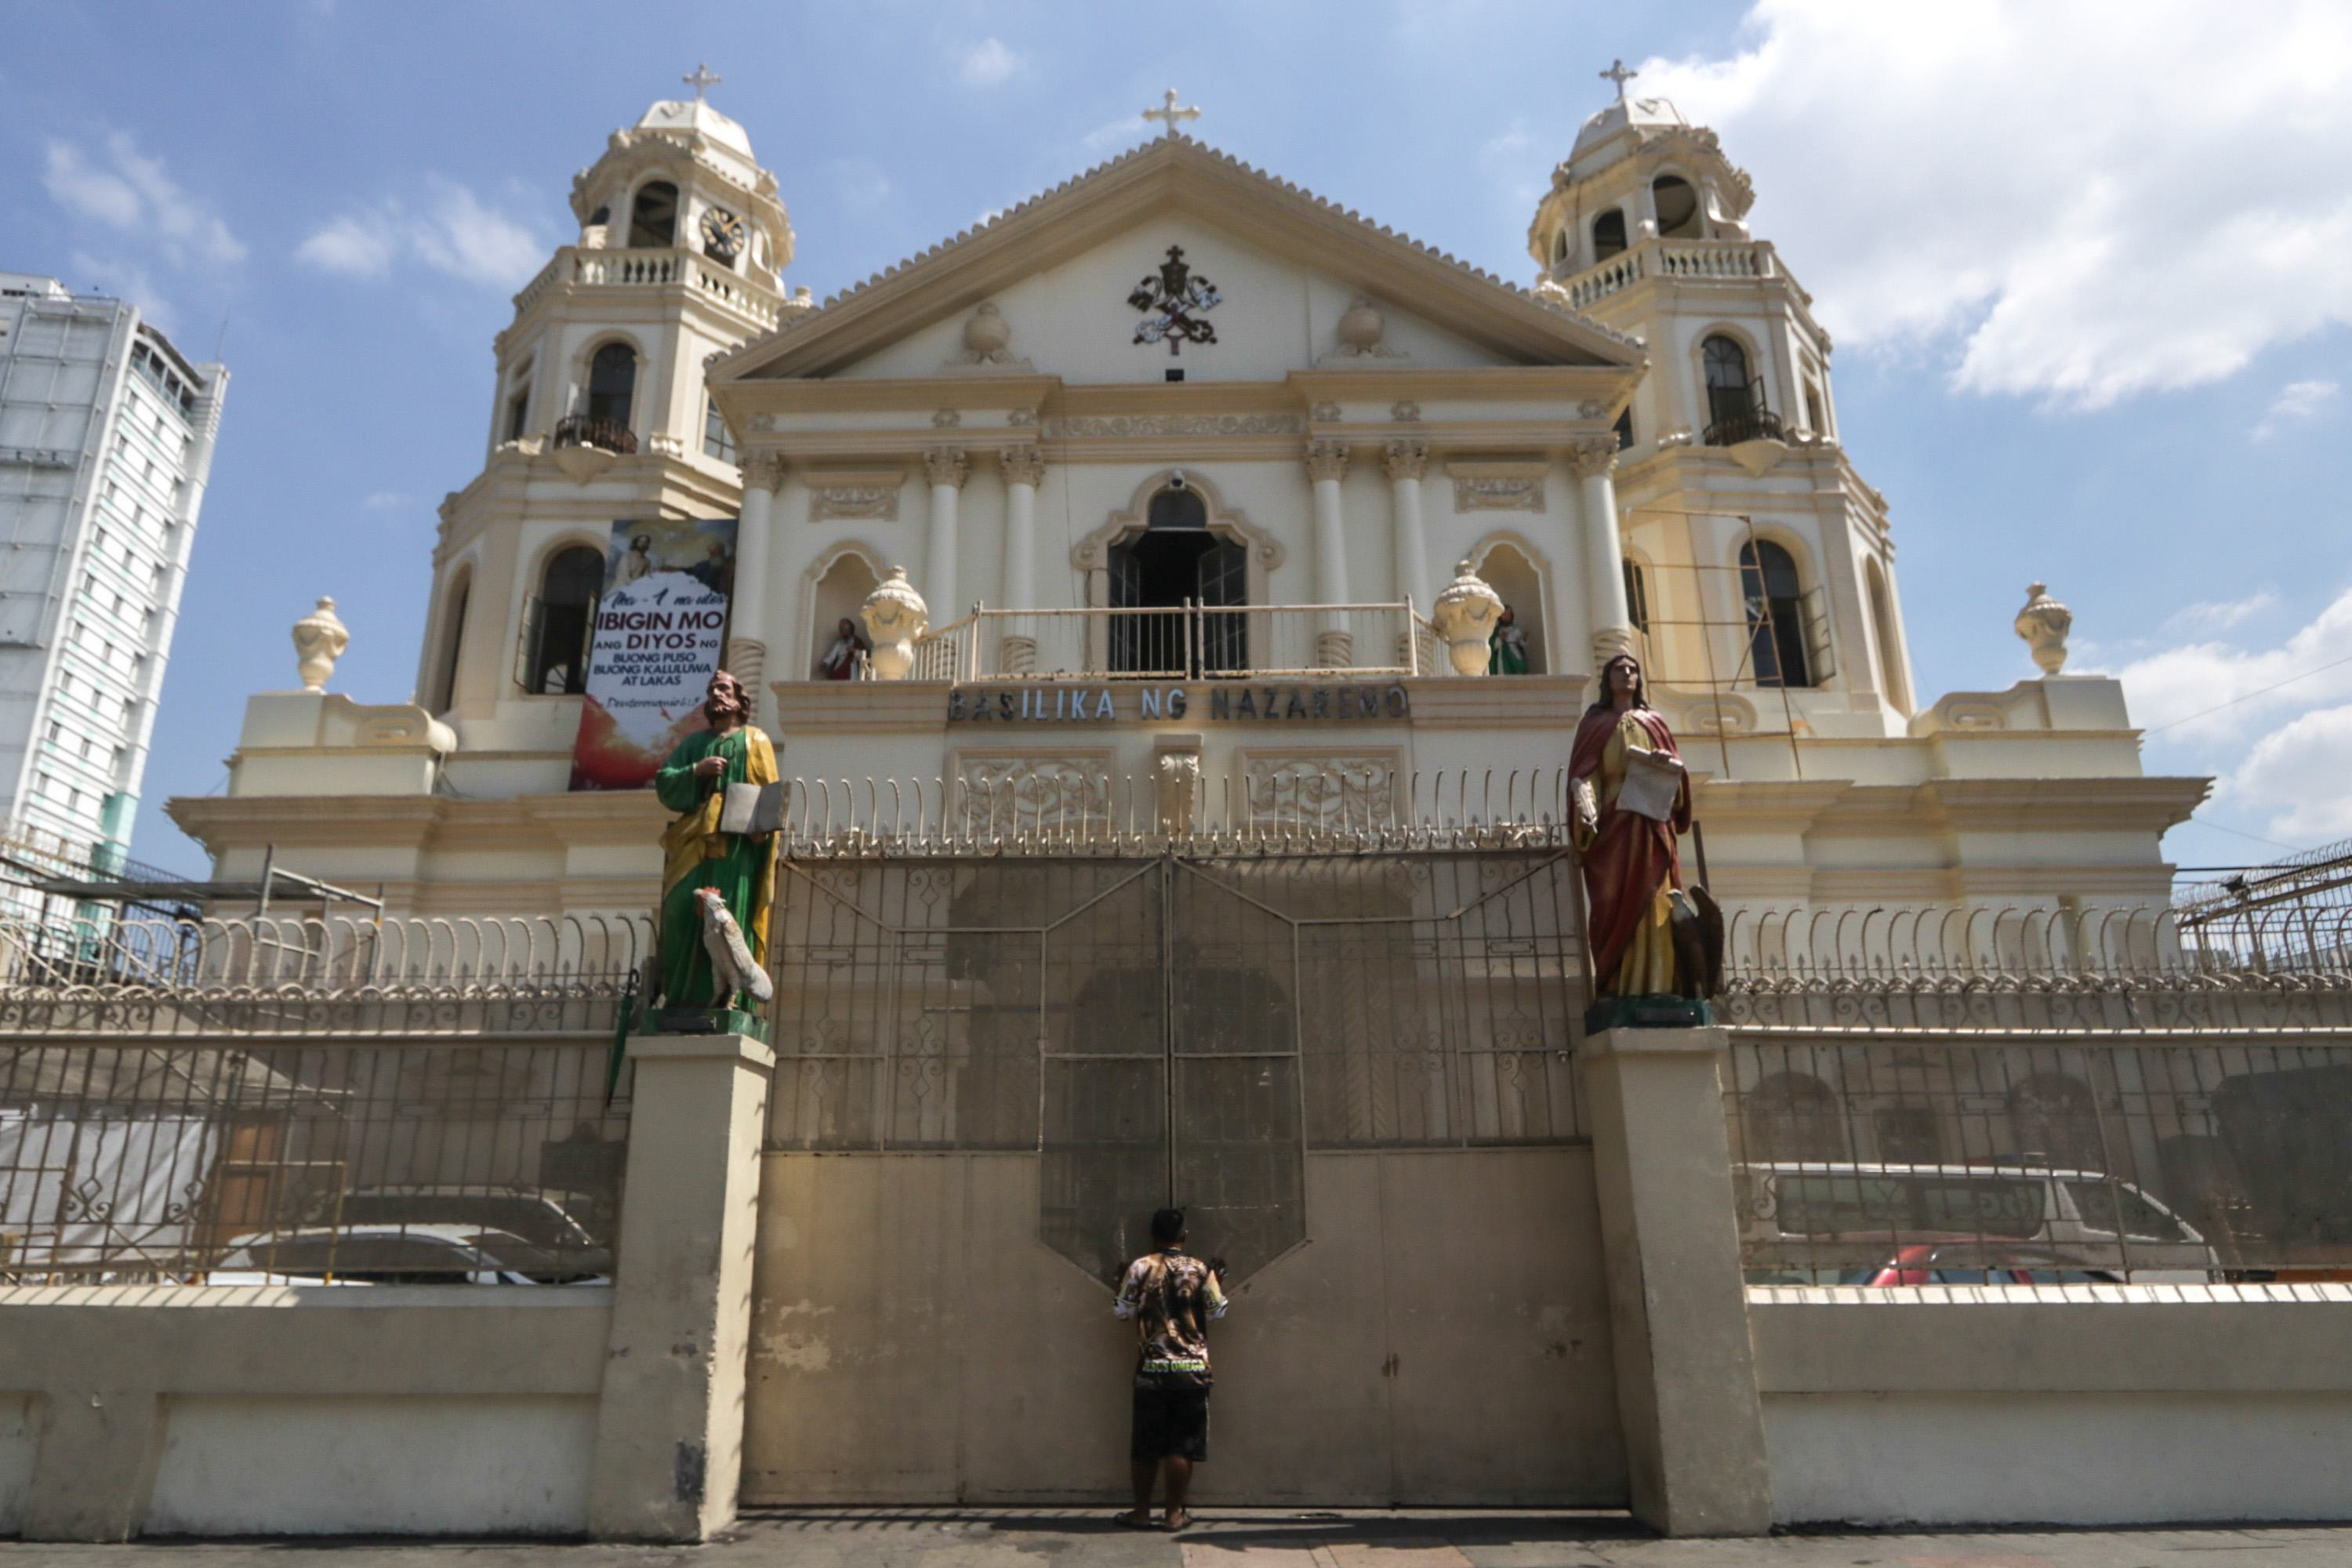quiapo_church_quiapo_manila: (203, 30, 2035, 1531)
